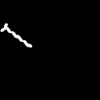half_double_crochet: (1, 24, 31, 46)
